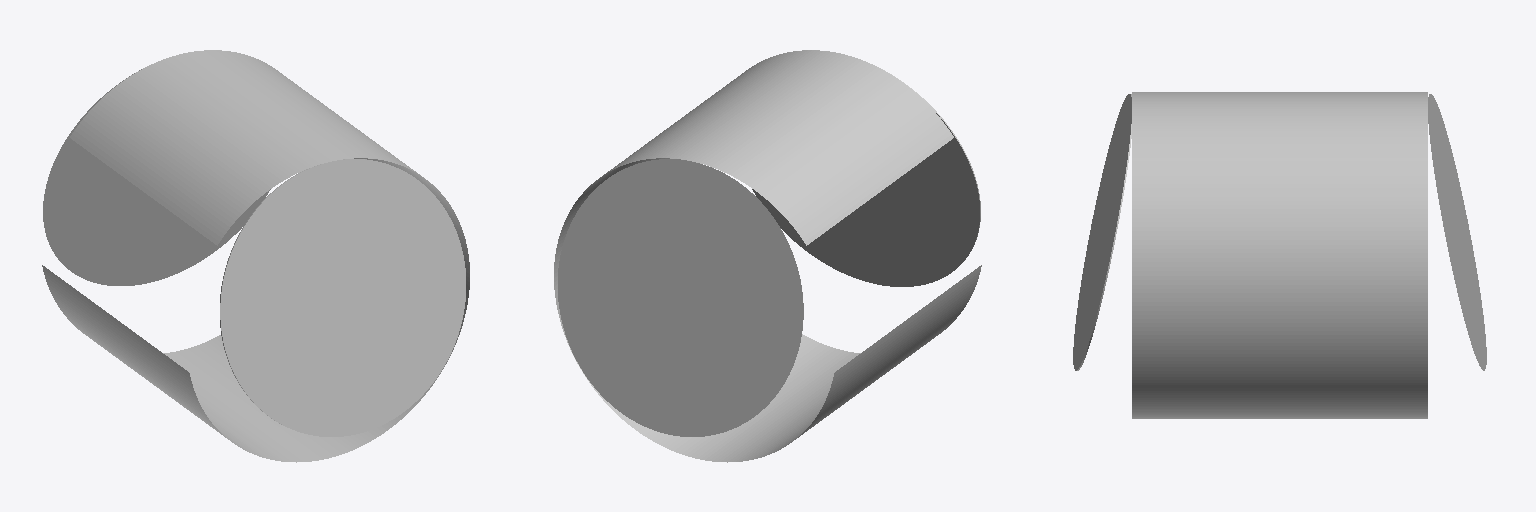
The model's file is plane bend77.obj.
3 renders of one model, left to right at view 1: azimuth 30°, elevation 25°; view 2: azimuth 150°, elevation 25°; view 3: azimuth 270°, elevation 25°, orthographic.
Parts seen in each view (by area): view 1: Circle, Plane, Circle.001; view 2: Circle.001, Plane, Circle; view 3: Plane, Circle, Circle.001.
Boxes of the visible parts, box(x1,y1,x2,y2) form: Circle: box(220, 159, 465, 436); Plane: box(42, 50, 469, 462); Circle.001: box(43, 69, 270, 285); Circle.001: box(558, 159, 803, 436); Plane: box(554, 50, 981, 462); Circle: box(752, 53, 980, 286); Plane: box(1132, 92, 1427, 418); Circle: box(1073, 94, 1131, 370); Circle.001: box(1428, 94, 1486, 370).
Size of the model in its own units: 2.19 by 2.21 by 2.8.